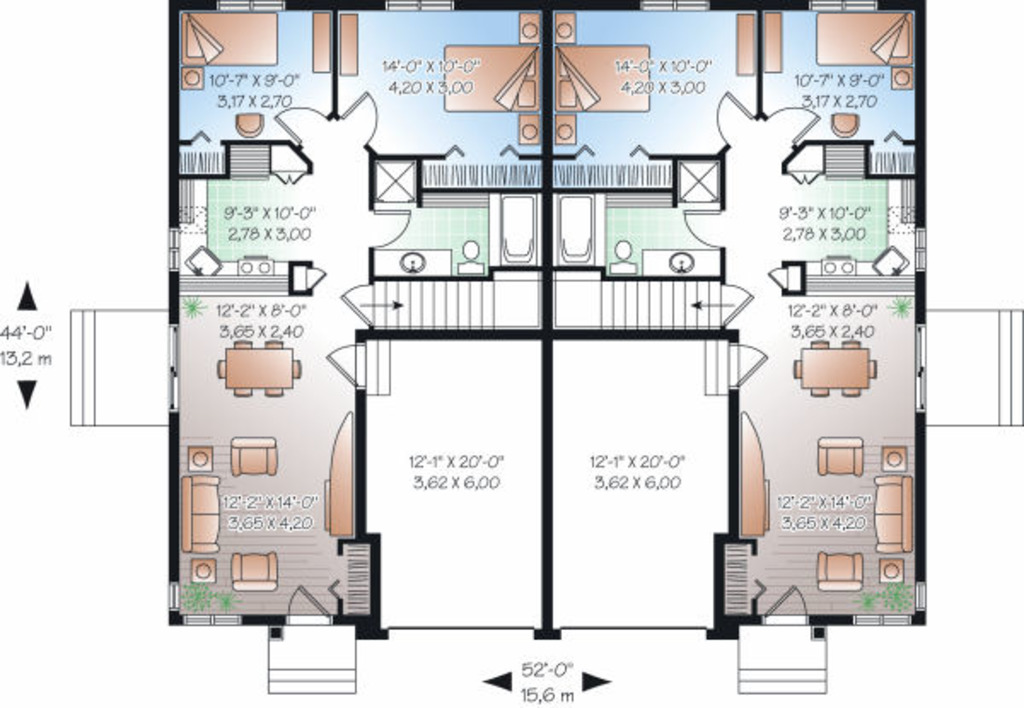bed: (443, 41, 541, 110), (554, 45, 653, 112), (178, 12, 281, 67), (817, 12, 919, 67)
dining_table: (789, 334, 880, 406), (214, 337, 301, 401)
door: (759, 91, 824, 143), (335, 93, 395, 148), (273, 95, 330, 143), (714, 91, 759, 148), (762, 583, 815, 629), (730, 336, 769, 391), (334, 277, 376, 328), (285, 586, 334, 626), (678, 204, 723, 247), (326, 337, 358, 391), (722, 281, 758, 327), (375, 205, 413, 247)
large_sink: (457, 239, 492, 278), (611, 236, 637, 279)
large_sofa: (873, 470, 916, 560), (182, 472, 224, 556)
sink: (176, 241, 228, 277), (868, 245, 908, 275)
small_sink: (373, 244, 457, 276), (644, 250, 730, 278)
small_sofa: (225, 551, 285, 599), (815, 543, 868, 595), (816, 430, 867, 479), (229, 434, 284, 478)
stairs: (372, 278, 545, 334), (557, 282, 727, 329), (706, 337, 737, 394), (362, 342, 394, 397)
tub: (555, 191, 606, 277), (494, 191, 539, 270)
window: (165, 318, 184, 416), (850, 613, 914, 629), (181, 613, 249, 628), (385, 1, 457, 14), (808, 1, 881, 13), (640, 1, 707, 13), (916, 226, 929, 274), (168, 580, 185, 613)
